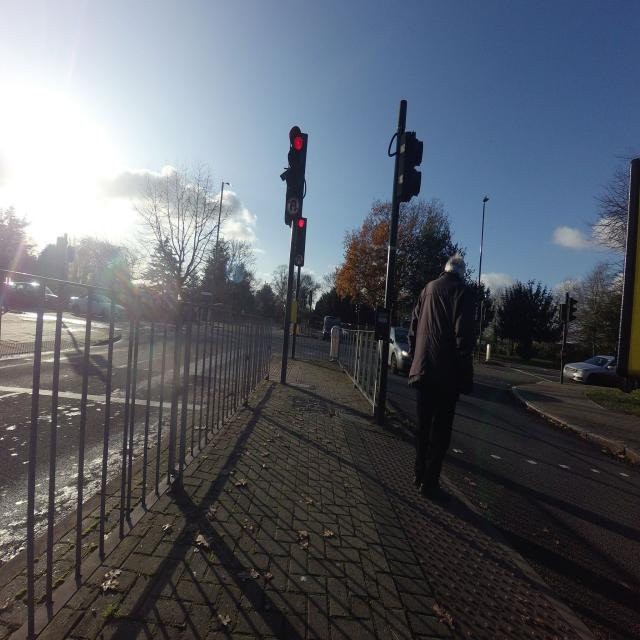car: (70, 292, 126, 321), (562, 354, 616, 384), (9, 283, 58, 311), (388, 326, 412, 374), (321, 315, 341, 341)
